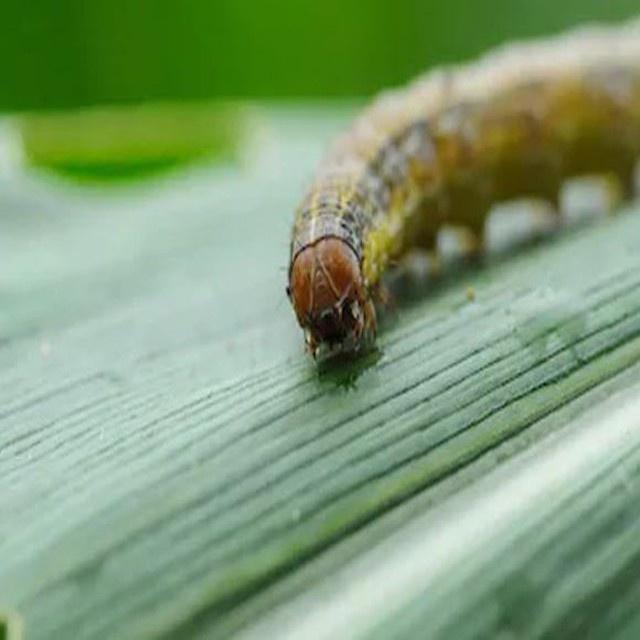gusano_cogollero: (280, 17, 640, 369)
